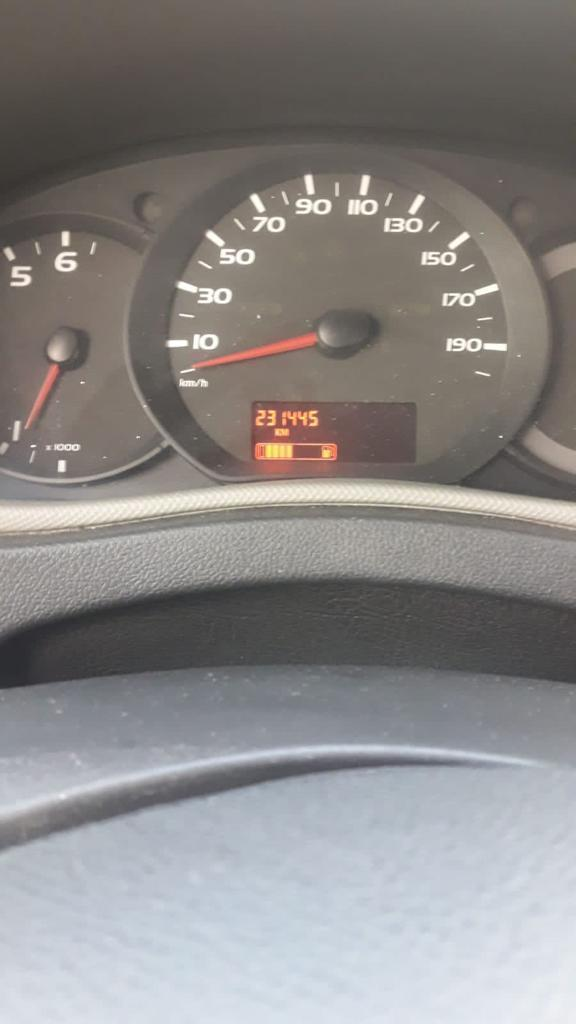1: (280, 410, 286, 427)
2: (255, 409, 265, 427)
3: (266, 409, 277, 425)
4: (286, 409, 297, 426), (297, 409, 307, 426)
5: (308, 409, 320, 427)
X: (281, 427, 289, 437), (274, 427, 281, 437)
odometer: (247, 397, 421, 466)
